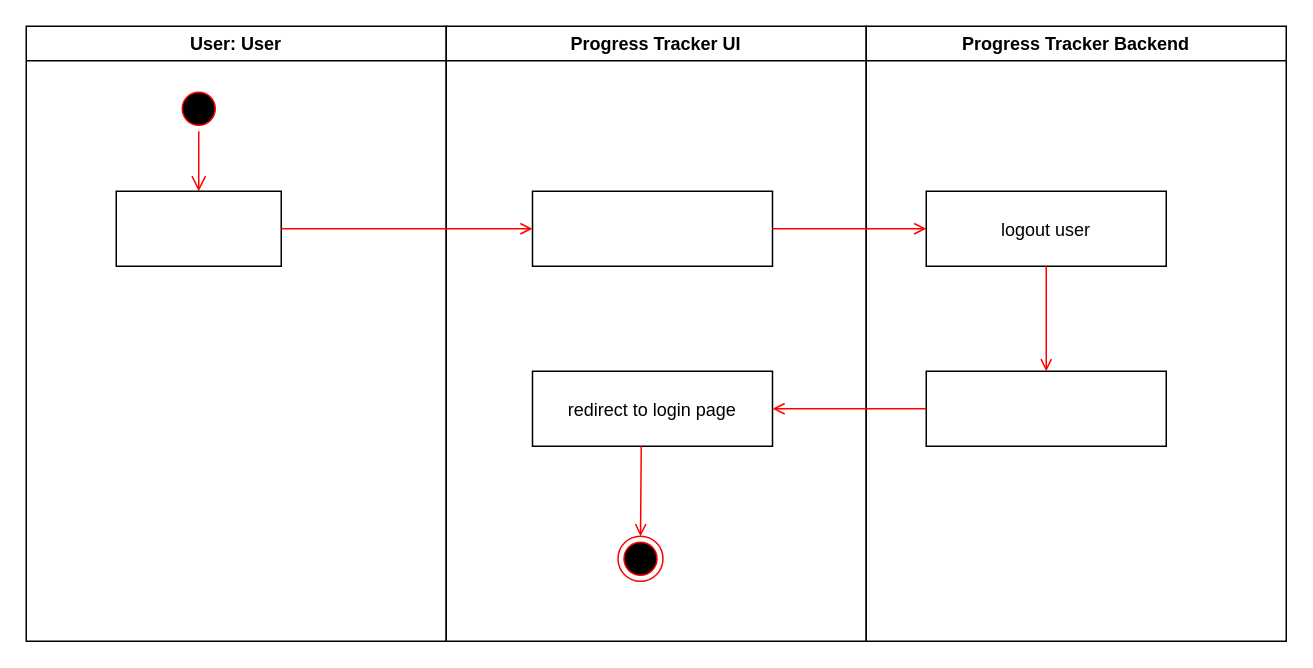
The diagram is 1313 pixels wide and 668 high, and some of its shapes have lost their labels. The centre of each missing label's shape, as x and y in pixels:
click logout link: the point at 198,228
destroy user authentication token: the point at 1045,408
logout user request: the point at 651,228
